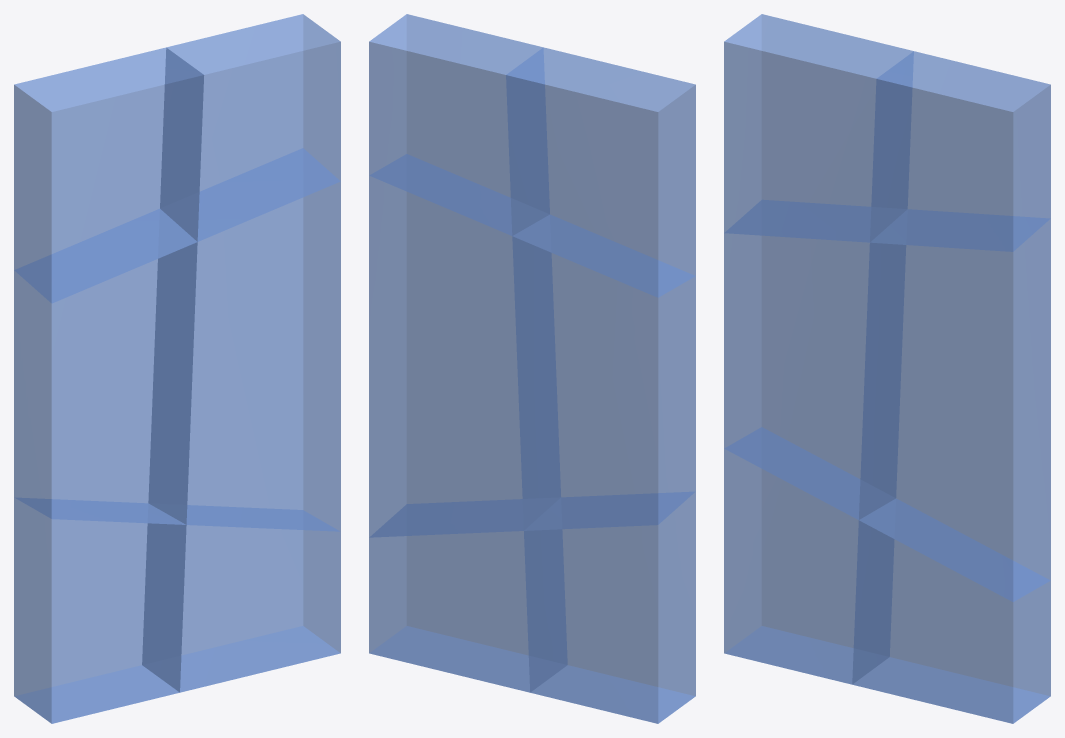
The model's file is window1 break.fbx.
3 views of the same model, side by side, from view 1: azimuth 30°, elevation 25°; view 2: azimuth 150°, elevation 25°; view 3: azimuth 330°, elevation 25° (orthographic).
Visible parts, largest first — view 1: window1_break, polySurface7, polySurface3, polySurface9, polySurface2, polySurface11, polySurface13; view 2: window1_break, polySurface7, polySurface3, polySurface9, polySurface2, polySurface11, polySurface13; view 3: window1_break, polySurface7, polySurface3, polySurface9, polySurface11, polySurface2, polySurface13.
Boxes of the visible parts, bbox=[...] form: window1_break: bbox=[149, 149, 340, 531]; polySurface7: bbox=[14, 209, 197, 524]; polySurface3: bbox=[14, 47, 204, 303]; polySurface9: bbox=[14, 497, 186, 723]; polySurface2: bbox=[160, 14, 340, 241]; polySurface11: bbox=[142, 505, 340, 692]; polySurface13: bbox=[15, 626, 339, 722]; window1_break: bbox=[369, 154, 560, 537]; polySurface7: bbox=[512, 215, 695, 530]; polySurface3: bbox=[506, 47, 695, 297]; polySurface9: bbox=[524, 491, 695, 723]; polySurface2: bbox=[369, 14, 549, 235]; polySurface11: bbox=[369, 499, 567, 692]; polySurface13: bbox=[370, 626, 694, 723]; window1_break: bbox=[859, 210, 1050, 601]; polySurface7: bbox=[724, 200, 905, 519]; polySurface3: bbox=[724, 14, 913, 242]; polySurface9: bbox=[724, 427, 893, 684]; polySurface11: bbox=[852, 499, 1050, 723]; polySurface2: bbox=[870, 51, 1050, 251]; polySurface13: bbox=[726, 626, 1049, 723].
Bounding box in the file's own units: 3.6 × 7.28 × 0.8138.
1 material, 1 textured.
